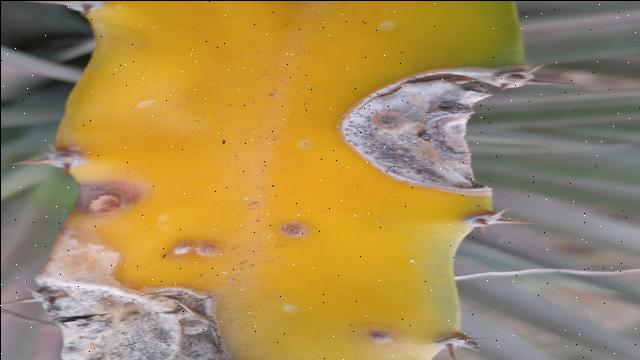stemcanker: (76, 175, 150, 214), (160, 229, 228, 271), (269, 214, 314, 247)
